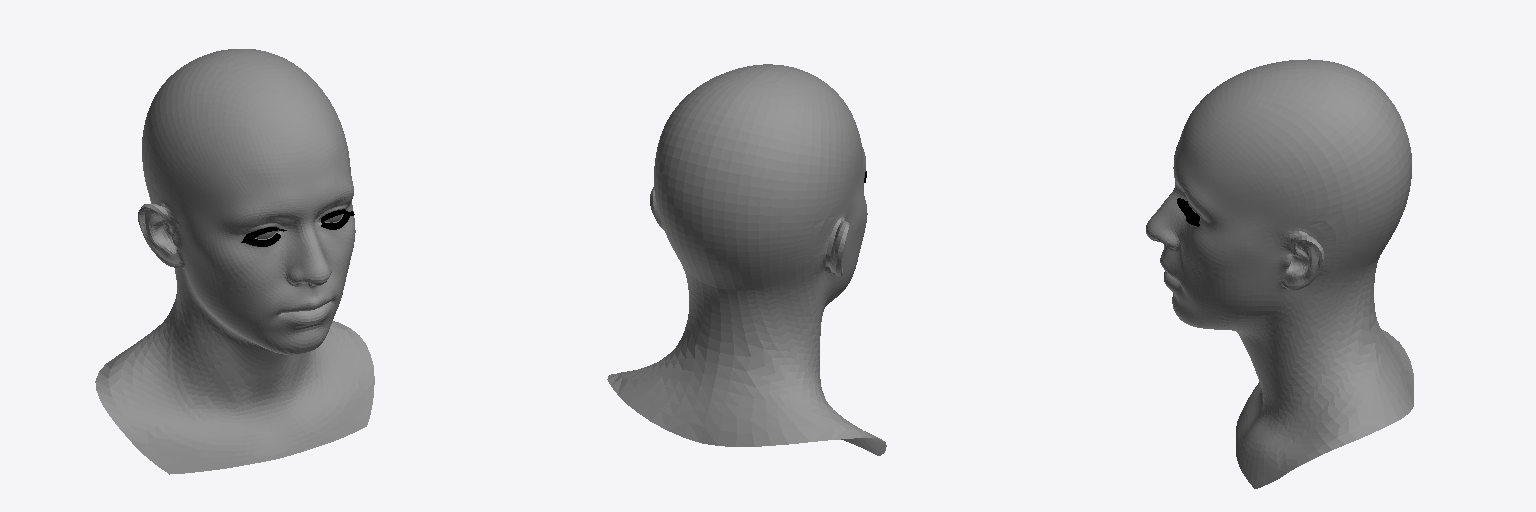
Rendered from identity007.obj.
The picture shows the model from 3 angles: view 1: azimuth 30°, elevation 25°; view 2: azimuth 150°, elevation 25°; view 3: azimuth 270°, elevation 25°; orthographic projection.
Bounding box in the file's own units: 24.75 × 33.8 × 22.